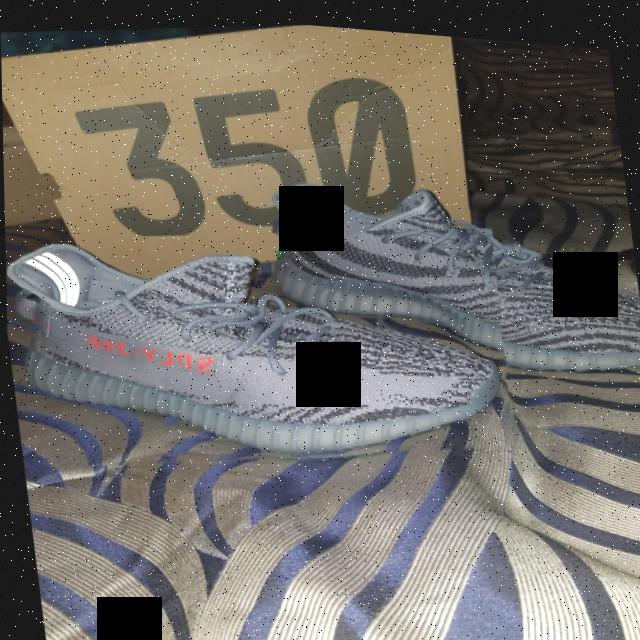shoe: (3, 188, 519, 501), (243, 131, 640, 404)
